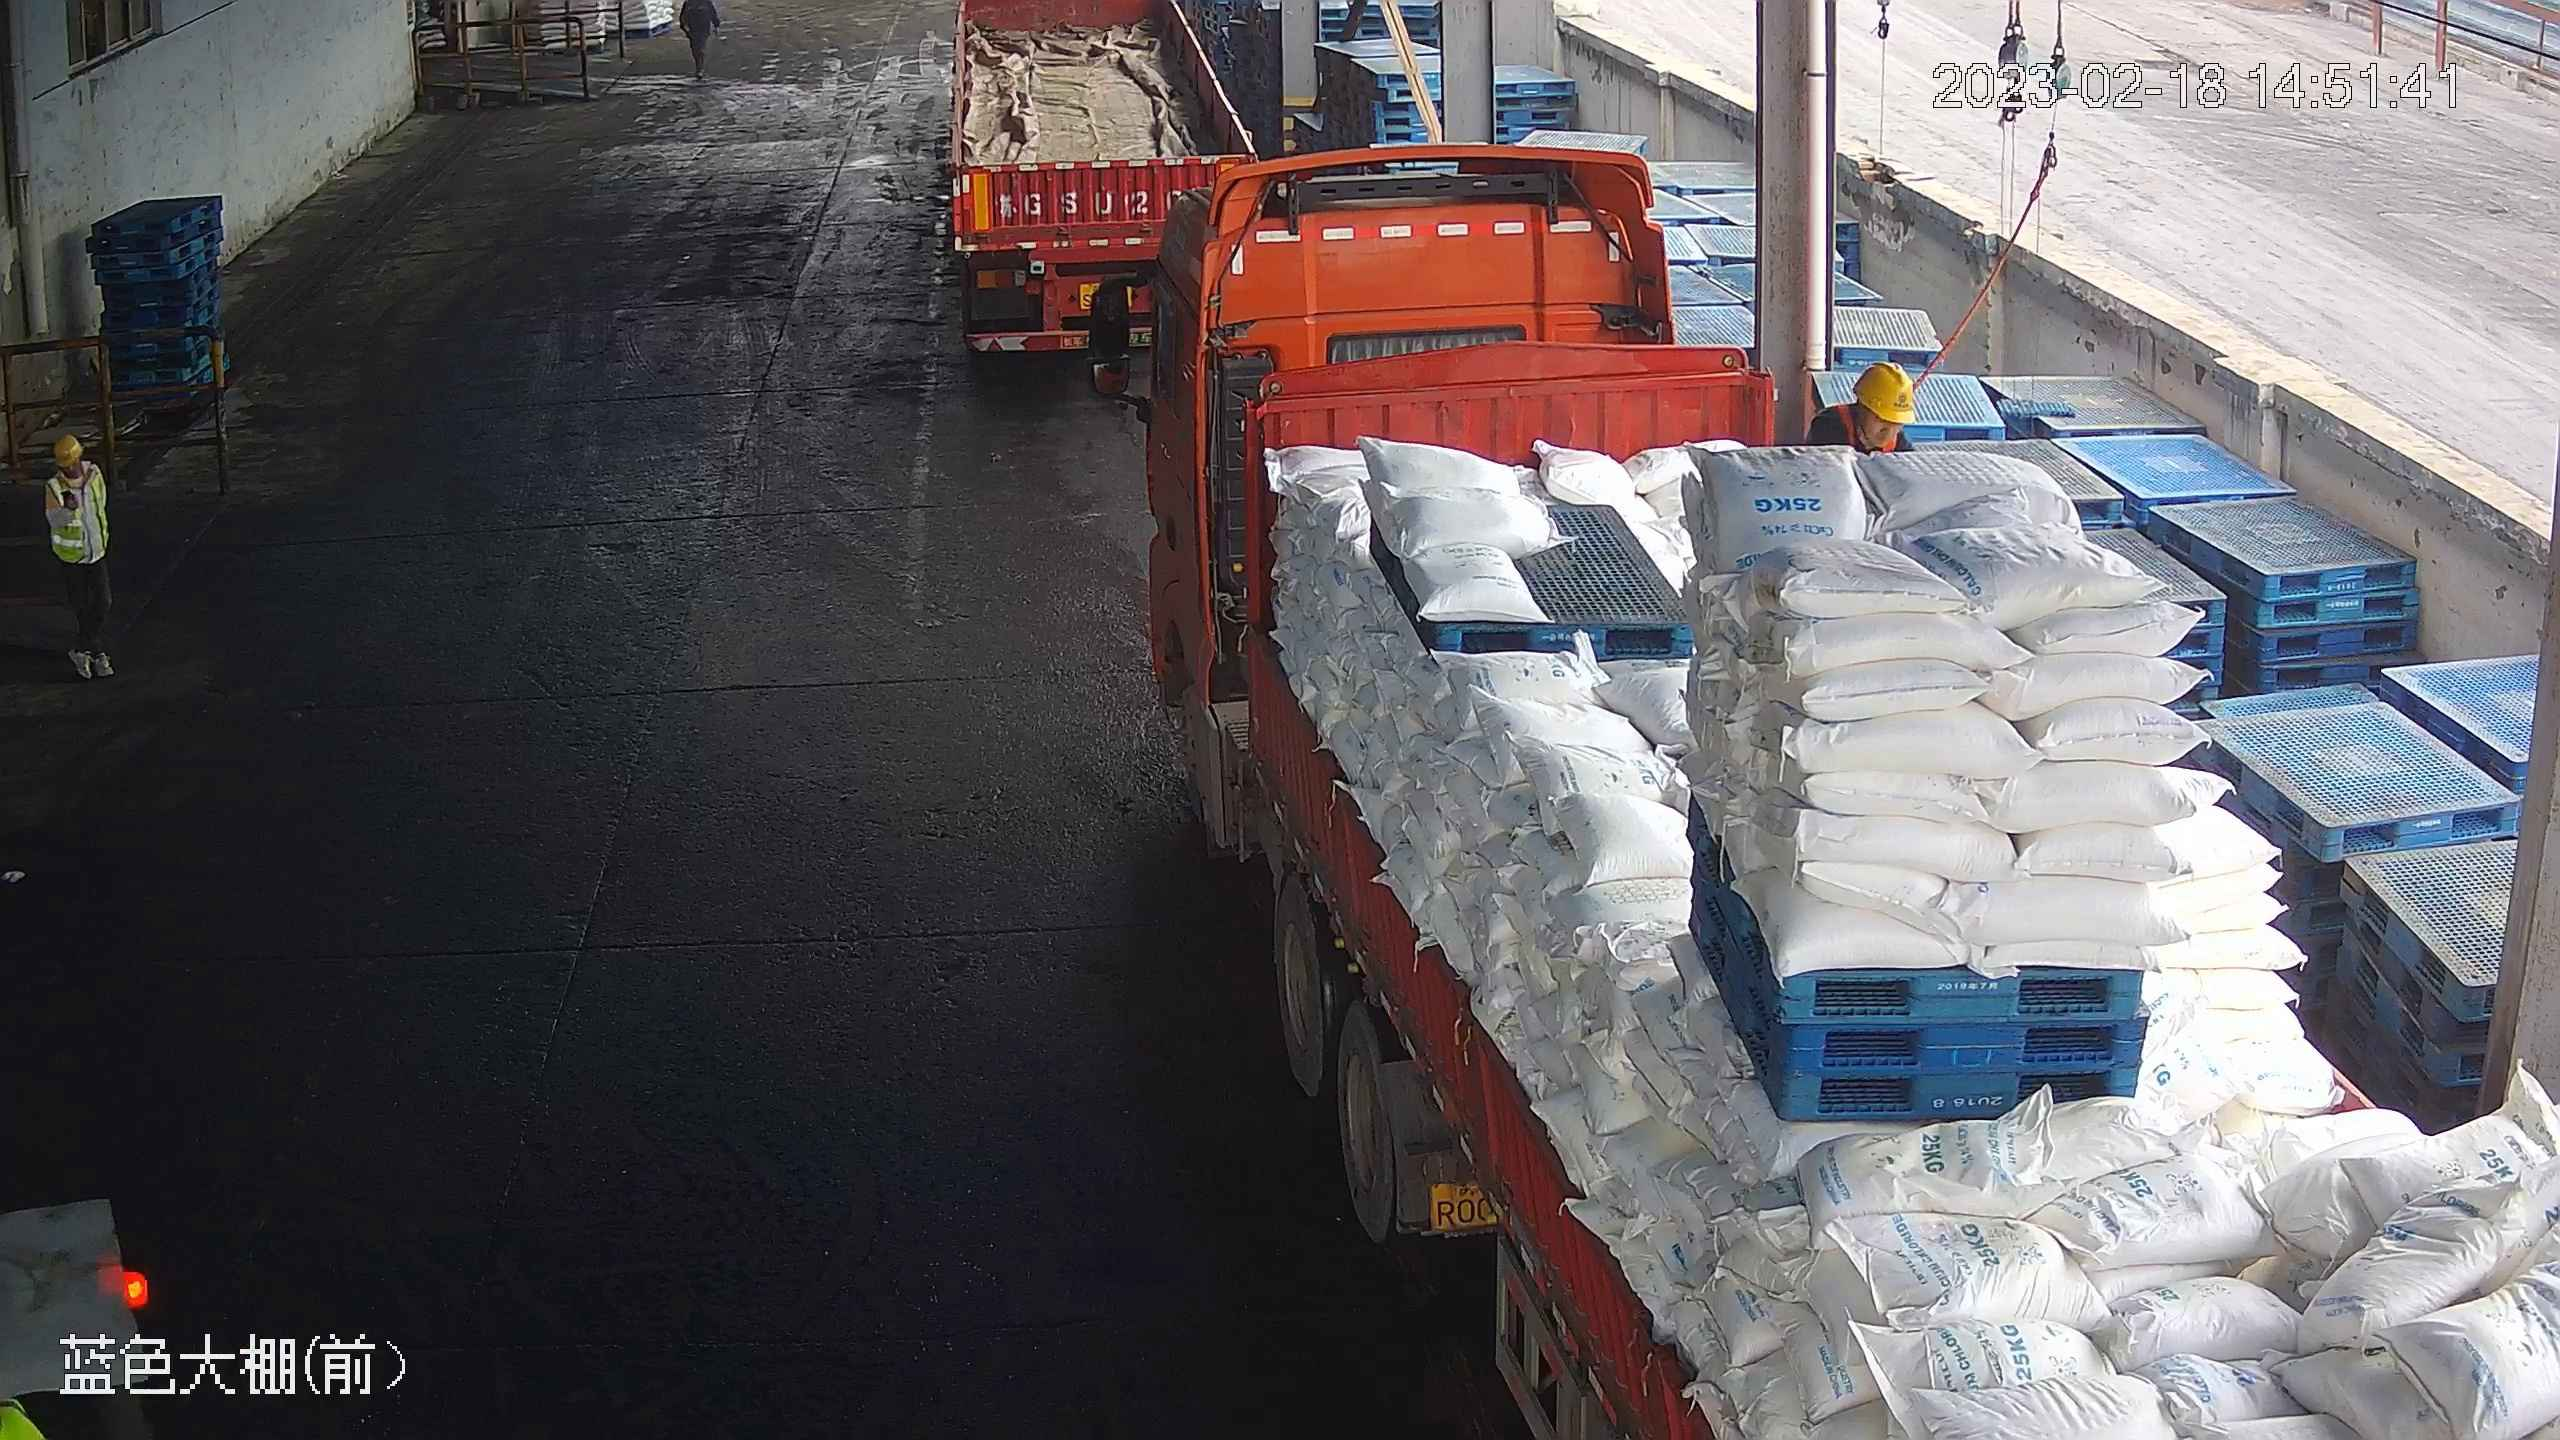belt: (1835, 411, 1890, 451)
head: (1807, 361, 1918, 451), (42, 432, 110, 503)
helmet: (1853, 357, 1921, 422), (54, 432, 85, 460)
people: (37, 429, 121, 689)
truck: (1062, 155, 2557, 1440), (909, 1, 1259, 379)
